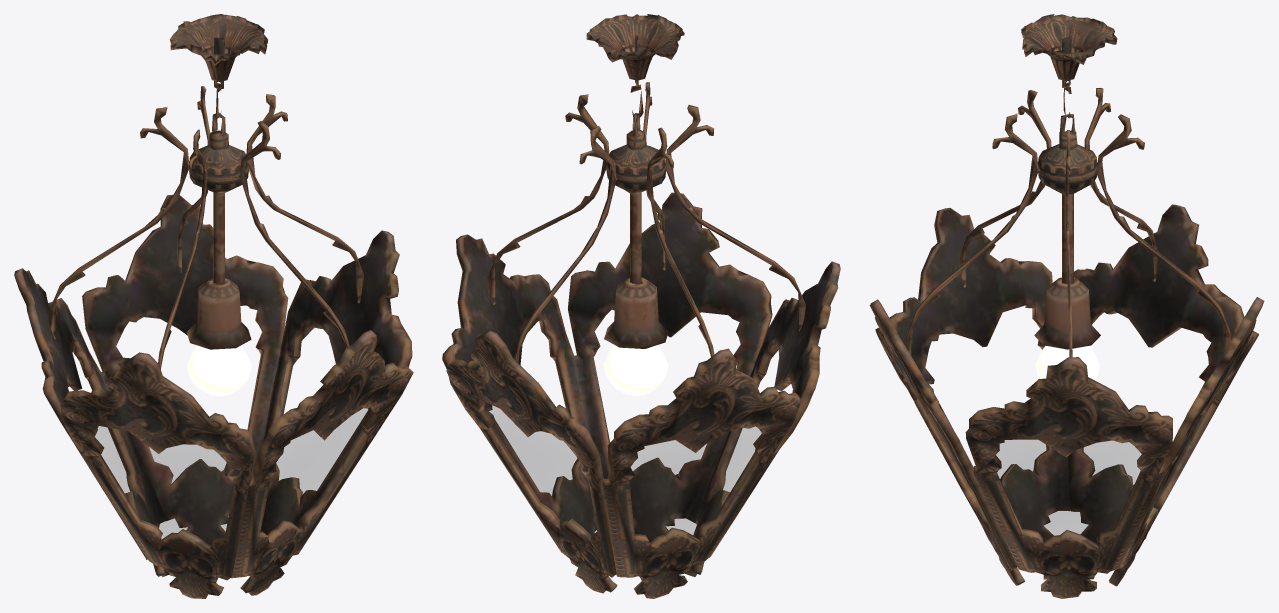
The model's file is lantern_chandelier_01.glb.
3 renders of one model, left to right at view 1: azimuth 30°, elevation 25°; view 2: azimuth 150°, elevation 25°; view 3: azimuth 270°, elevation 25°, orthographic.
Visible parts, largest first — view 1: lantern_chandelier_01; view 2: lantern_chandelier_01; view 3: lantern_chandelier_01.
Boxes of the visible parts, <box> form: lantern_chandelier_01: <box>14,14,413,598</box>; lantern_chandelier_01: <box>442,14,840,598</box>; lantern_chandelier_01: <box>869,14,1264,598</box>.
Size of the model in its own units: 0.5792 by 0.8776 by 0.5746.
Materials: 3 (2 with a texture image).
